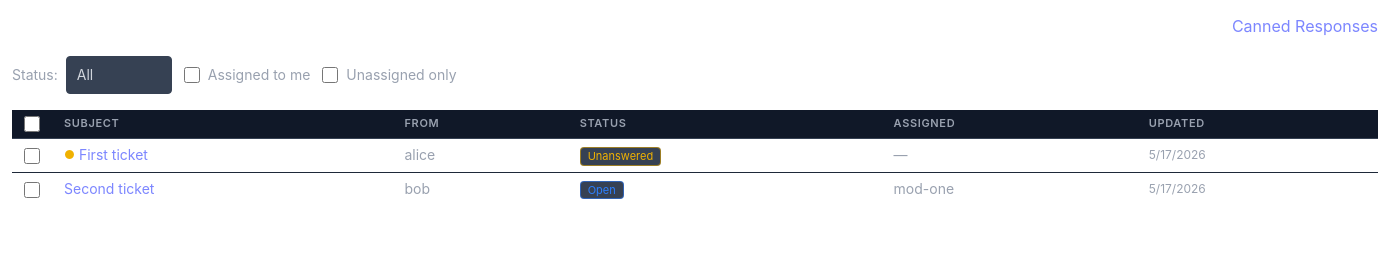
it: TicketQueuePage › toggles select-all and deselect-all via the header checkbox
Click the checkbox next to "Subject": (32, 124) [24, 116, 40, 132]
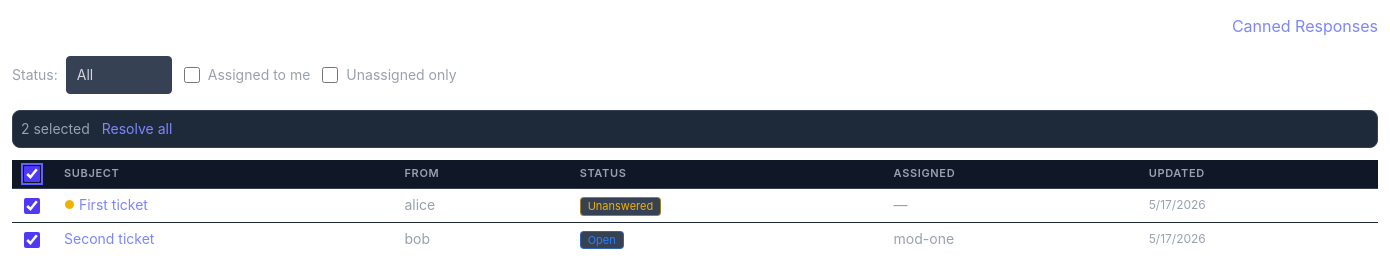
Check: the text "2 selected" is shown, box [21, 119, 90, 139]
Click the checkbox next to "Subject": (32, 174) [24, 166, 40, 182]
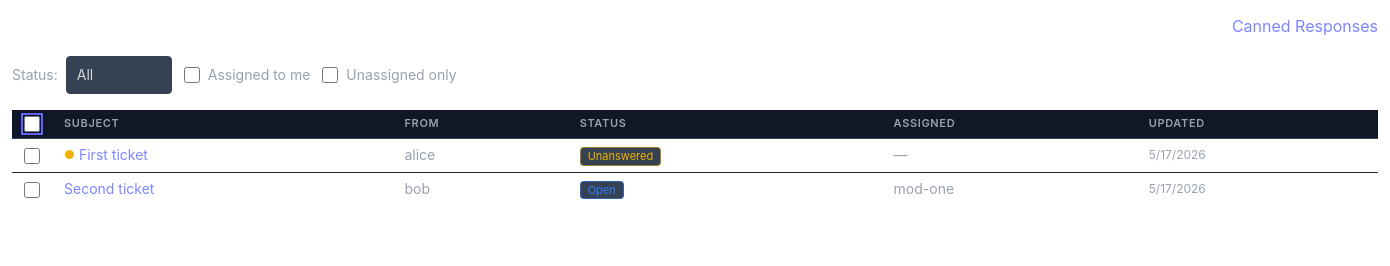
Check: the text "selected" is gone
